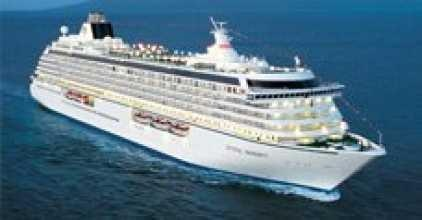youlun: (27, 12, 386, 191)
